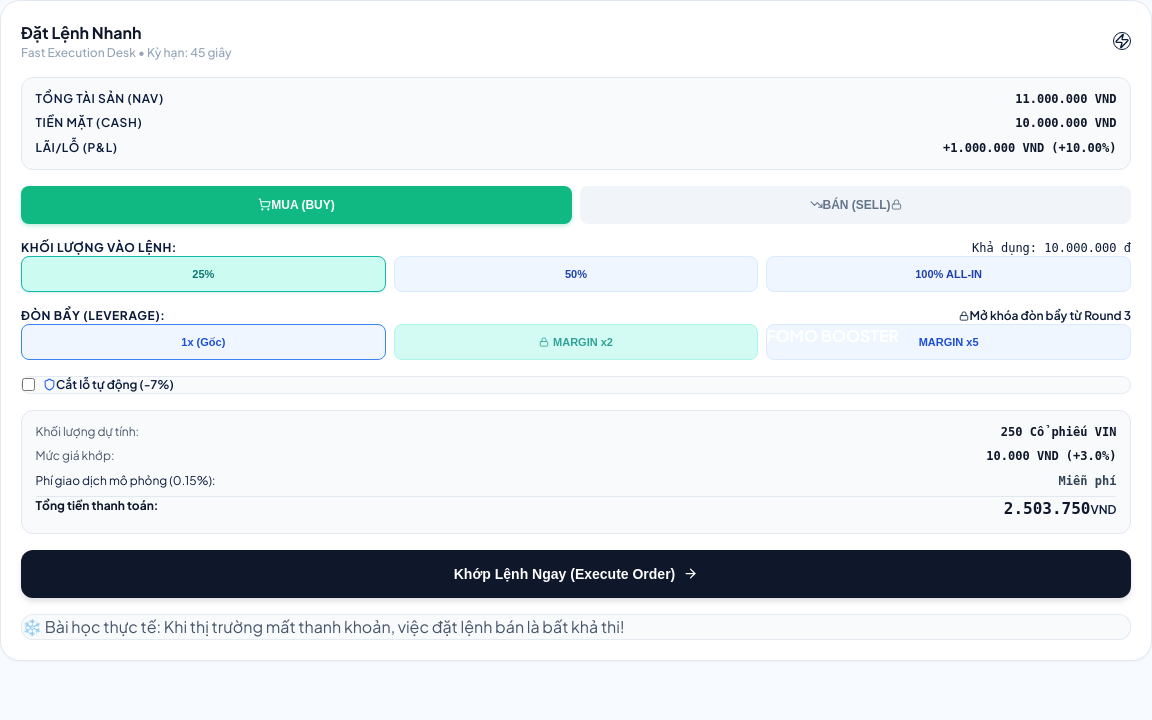
Scenario: FomoOrderTicket › locks sell orders in Round 5 with liquidity alert banner and blocked CTA
Click the button "BÁN (SELL)".
click(856, 205)  # box [580,186,1131,224]
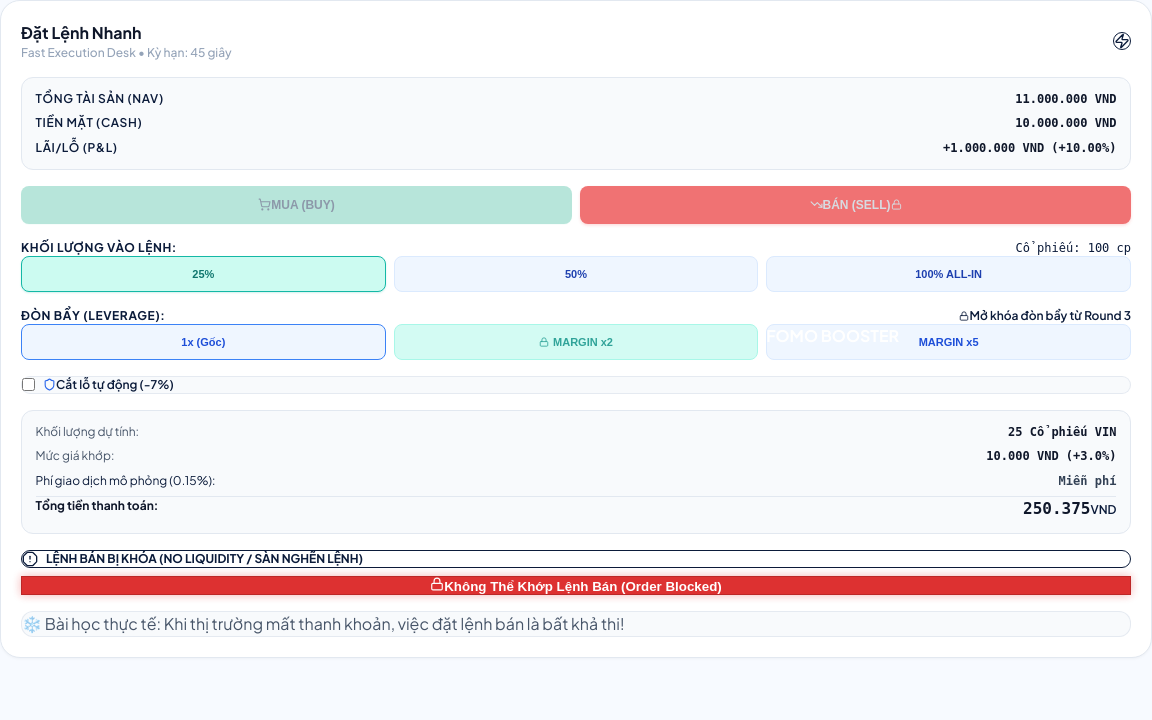
Expected: the text "LỆNH BÁN BỊ KHÓA (NO LIQUIDITY / SÀN NGHẼN LỆNH)" is shown, [46,551,363,567]
Expected: the text "Không Thể Khớp Lệnh Bán (Order Blocked)" is shown, [444,579,722,594]
